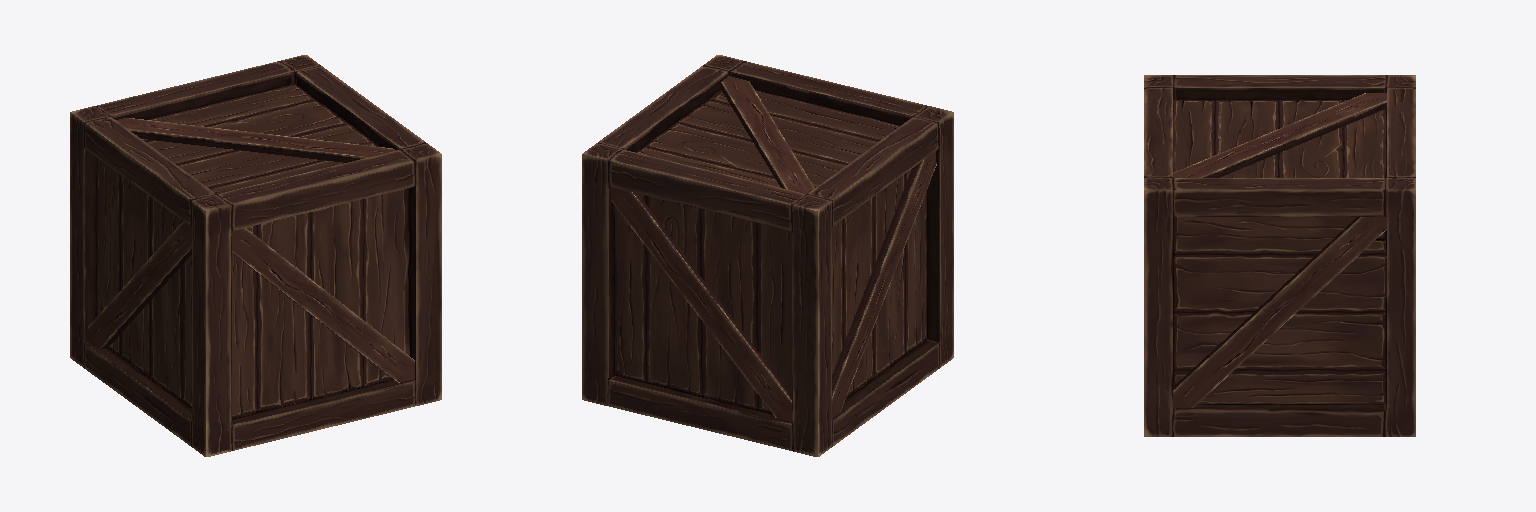
3 views of the same model, side by side, from view 1: azimuth 30°, elevation 25°; view 2: azimuth 150°, elevation 25°; view 3: azimuth 270°, elevation 25° (orthographic).
Visible parts, largest first — view 1: wooden_box_obj; view 2: wooden_box_obj; view 3: wooden_box_obj.
Part boxes in pixels (bbox=[...]): wooden_box_obj: bbox=[70, 55, 441, 456]; wooden_box_obj: bbox=[582, 55, 953, 456]; wooden_box_obj: bbox=[1144, 75, 1415, 436].
Bounding box in the file's own units: 0.1936 × 0.1932 × 0.1934.
1 materials, 1 textured.